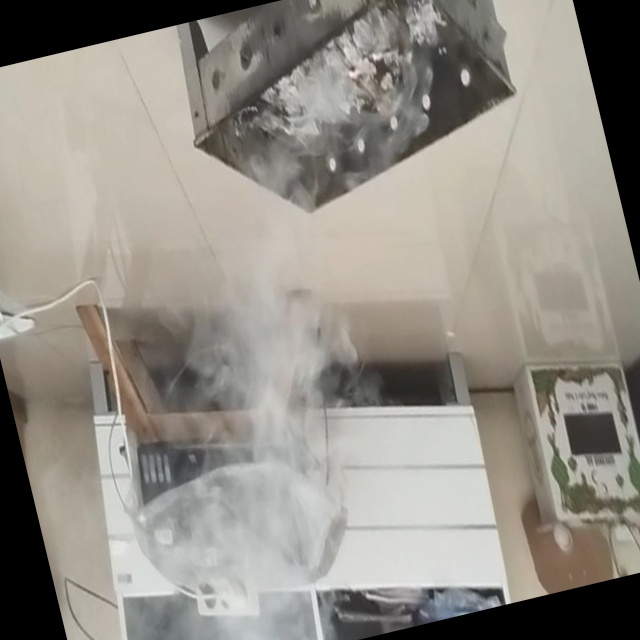smoke: (120, 344, 380, 640), (183, 19, 463, 285)
